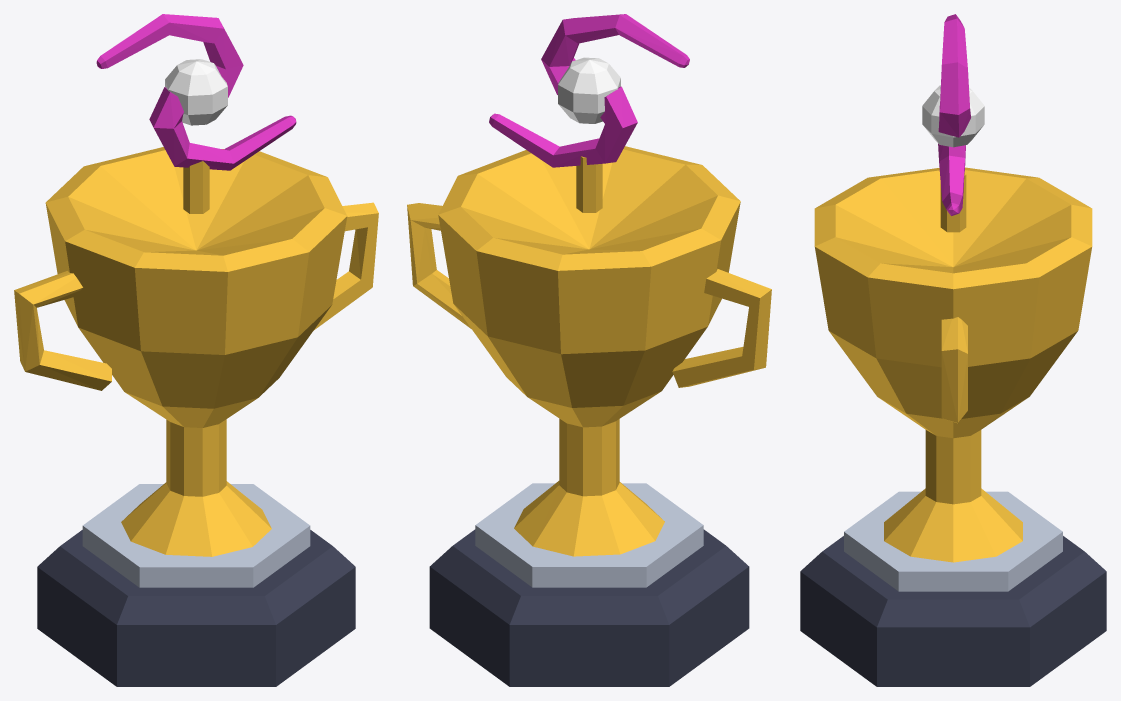
Rendered from trophy_galaxy.obj.
3 views of the same model, side by side, from view 1: azimuth 30°, elevation 25°; view 2: azimuth 150°, elevation 25°; view 3: azimuth 270°, elevation 25° (orthographic). The views are drawn at different scales.
Bounding box in the file's own units: 1.09 × 1.81 × 0.84.
